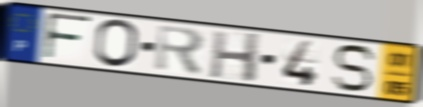4: (280, 38, 318, 88)
F: (41, 11, 94, 63)
H: (208, 29, 263, 85)
O: (92, 17, 141, 70)
R: (153, 23, 207, 78)
S: (328, 43, 378, 94)
